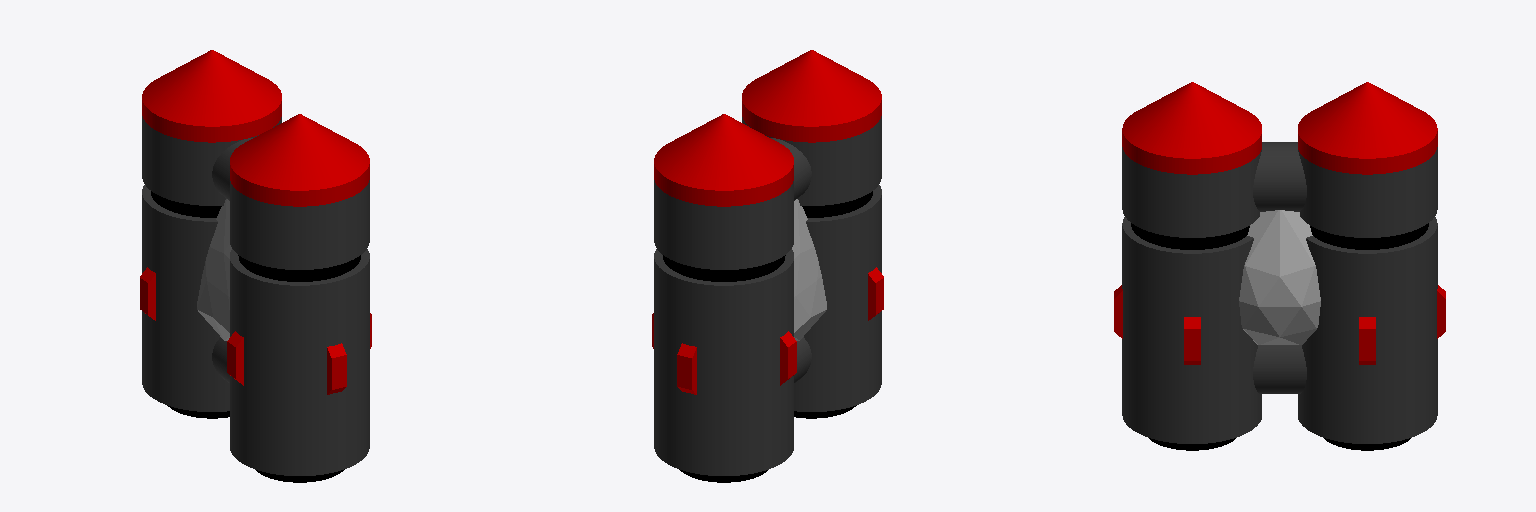
File: jetpack.obj
3 views of the same model, side by side, from view 1: azimuth 30°, elevation 25°; view 2: azimuth 150°, elevation 25°; view 3: azimuth 270°, elevation 25° (orthographic).
Parts seen in each view (by area): view 1: Icosphere; view 2: Icosphere; view 3: Icosphere.
Part boxes in pixels (bbox=[...]): Icosphere: bbox=[140, 50, 371, 482]; Icosphere: bbox=[652, 50, 883, 482]; Icosphere: bbox=[1114, 82, 1445, 450].
Size of the model in its own units: 1.12 by 2.75 by 2.38.